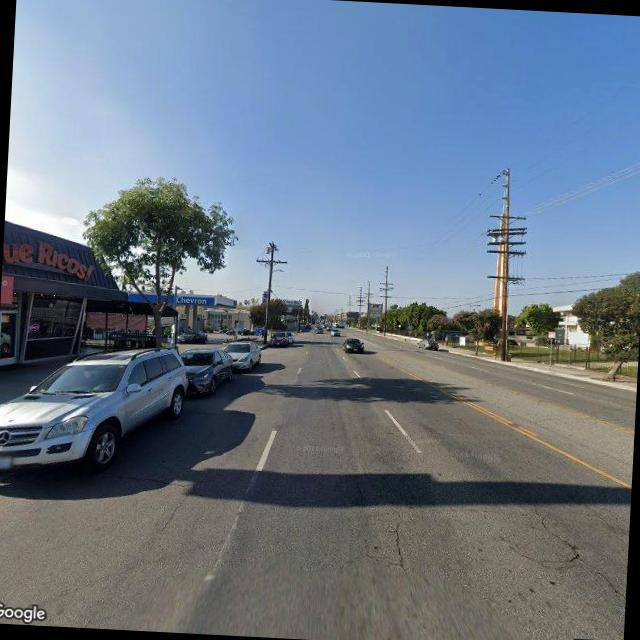pothole: (513, 498, 625, 594), (385, 515, 409, 570), (156, 497, 186, 534)
